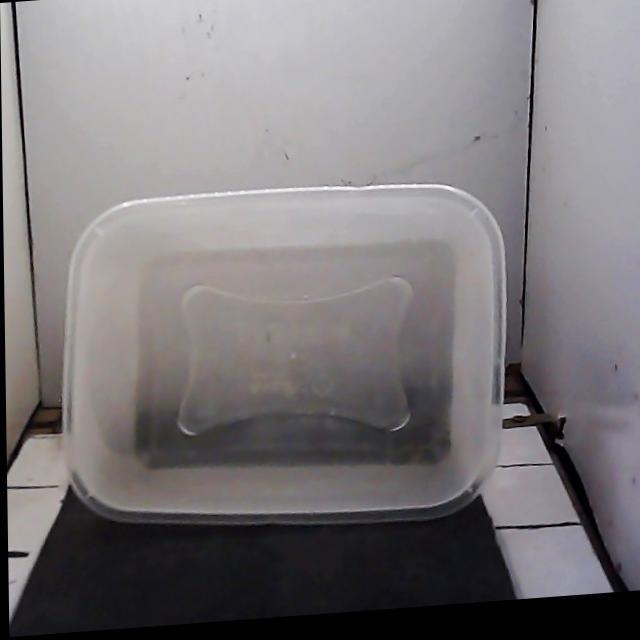plastico: (62, 185, 505, 524)
